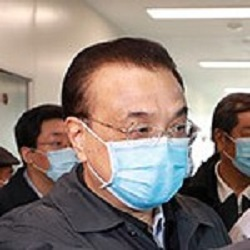mask: (68, 128, 190, 210)
